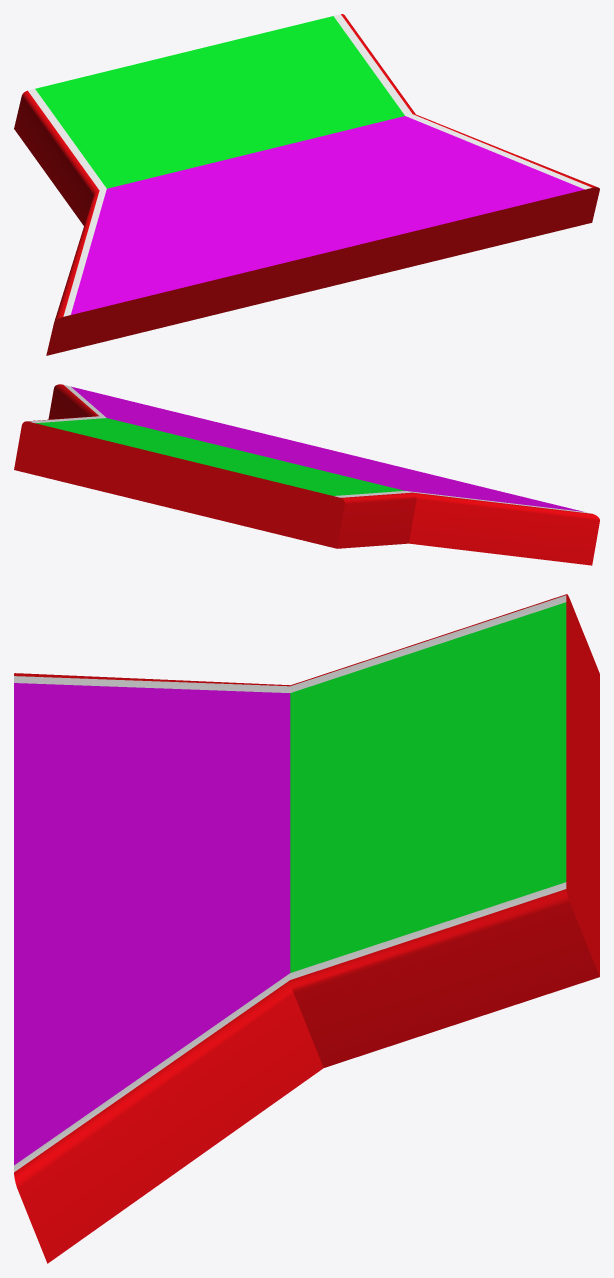
The model's file is GenisYoldan_OrtaYola_Gecis_Yukari.fbx.
3 views of the same model, one above another, from view 1: azimuth 30°, elevation 25°; view 2: azimuth 150°, elevation 25°; view 3: azimuth 270°, elevation 25° (orthographic). The views are drawn at different scales.
Visible parts, largest first — view 1: GenisYoldan_OrtaYola_Gecis_Yukari; view 2: GenisYoldan_OrtaYola_Gecis_Yukari; view 3: GenisYoldan_OrtaYola_Gecis_Yukari.
Boxes of the visible parts, bbox=[...] form: GenisYoldan_OrtaYola_Gecis_Yukari: bbox=[14, 14, 599, 355]; GenisYoldan_OrtaYola_Gecis_Yukari: bbox=[14, 384, 599, 565]; GenisYoldan_OrtaYola_Gecis_Yukari: bbox=[14, 594, 599, 1263].
Bounding box in the file's own units: 1856 × 449 × 897.
